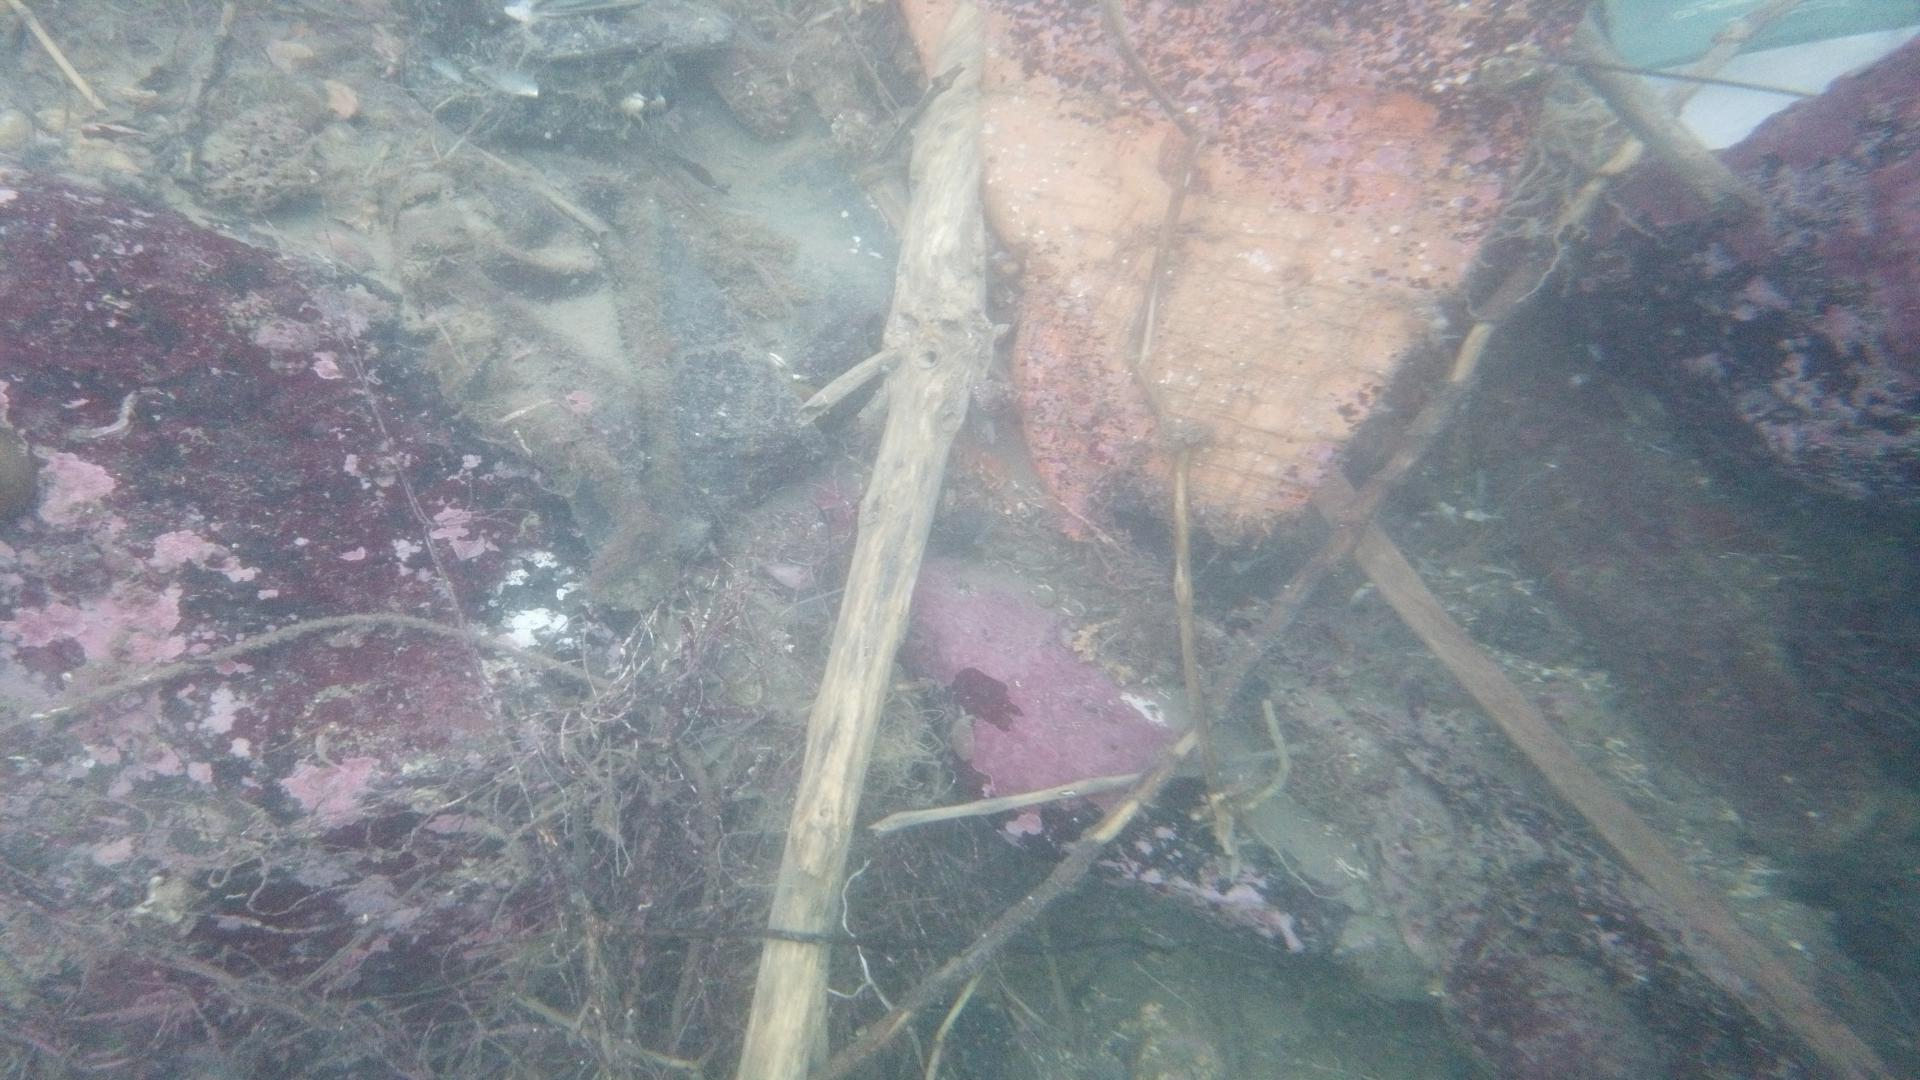wood: (815, 21, 1735, 1080), (1305, 458, 1891, 1080), (731, 0, 1010, 1080), (1556, 12, 1739, 210)
